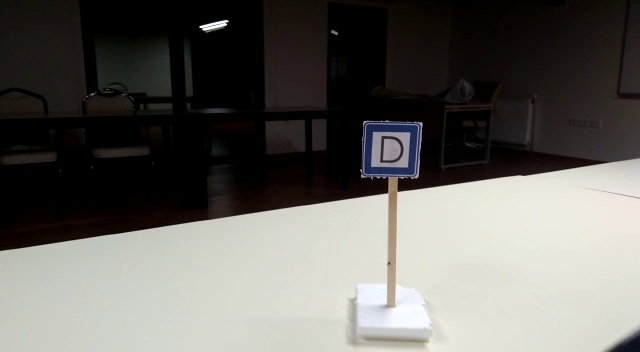durak: (361, 121, 424, 174)
